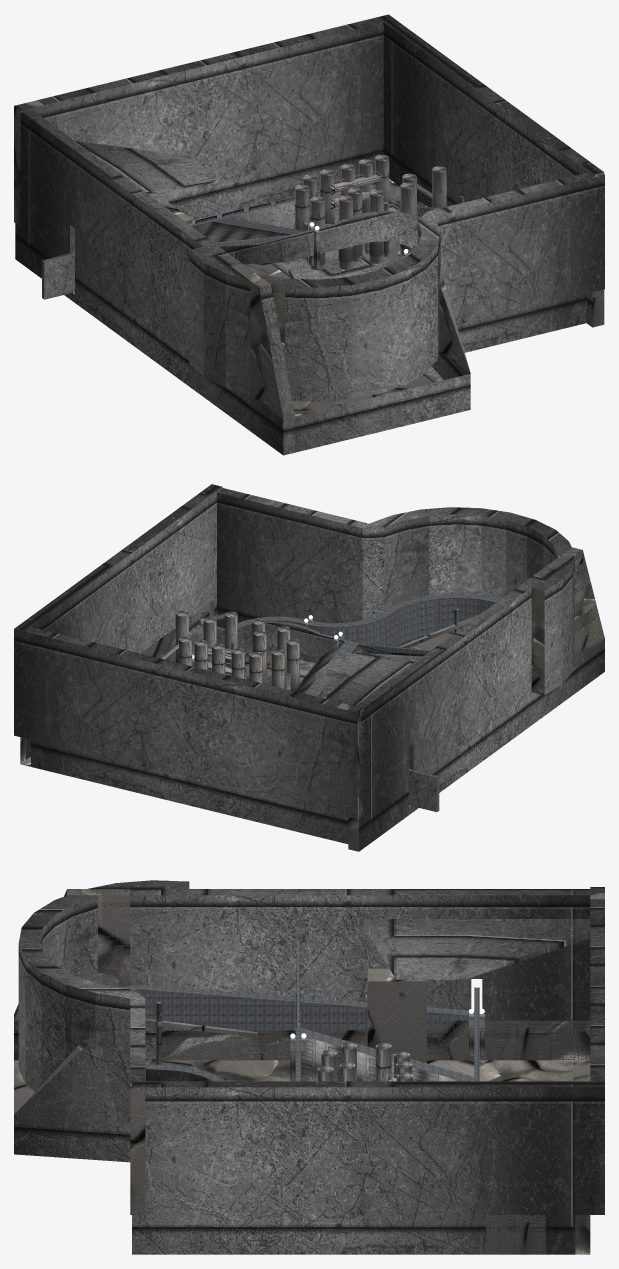
The model's file is hest.glb.
3 renders of one model, top to bottom at view 1: azimuth 30°, elevation 25°; view 2: azimuth 150°, elevation 25°; view 3: azimuth 270°, elevation 25°, orthographic. The views are drawn at different scales.
Parts seen in each view (by area): view 1: plane, platform, fon; view 2: plane, platform, fon, block_1; view 3: plane, platform, fon, block_1, finih.
Boxes of the visible parts, bbox=[...] form: plane: bbox=[14, 14, 604, 455]; platform: bbox=[42, 187, 438, 299]; fon: bbox=[295, 155, 446, 270]; plane: bbox=[14, 484, 604, 851]; platform: bbox=[192, 593, 500, 811]; fon: bbox=[160, 610, 299, 690]; block_1: bbox=[398, 608, 481, 647]; plane: bbox=[14, 880, 604, 1254]; platform: bbox=[119, 939, 479, 1081]; fon: bbox=[317, 1042, 412, 1081]; block_1: bbox=[145, 1002, 257, 1064]; finih: bbox=[290, 1014, 484, 1081].
Size of the model in its own units: 196 by 73.41 by 226.
Materials: 13 (8 with a texture image).
